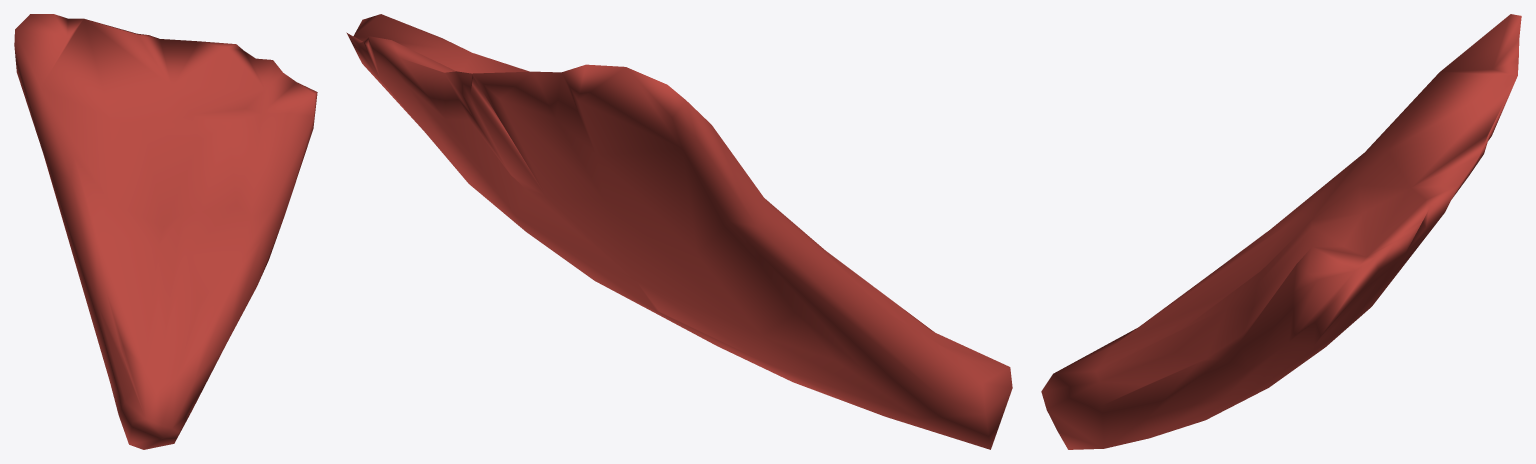
Rendered from musculos-rectus-posterior-minor-capitis-muscle-l.glb.
3 renders of one model, left to right at view 1: azimuth 30°, elevation 25°; view 2: azimuth 150°, elevation 25°; view 3: azimuth 270°, elevation 25°, orthographic. The views are drawn at different scales.
Parts seen in each view (by area): view 1: Rectus posterior minor capitis muscle.l; view 2: Rectus posterior minor capitis muscle.l; view 3: Rectus posterior minor capitis muscle.l.
Part boxes in pixels (x1,y1,x2,y2): Rectus posterior minor capitis muscle.l: (14,14,317,449); Rectus posterior minor capitis muscle.l: (346,14,1012,449); Rectus posterior minor capitis muscle.l: (1041,14,1521,449).
Size of the model in its own units: 0.0236 by 0.026 by 0.0253.
